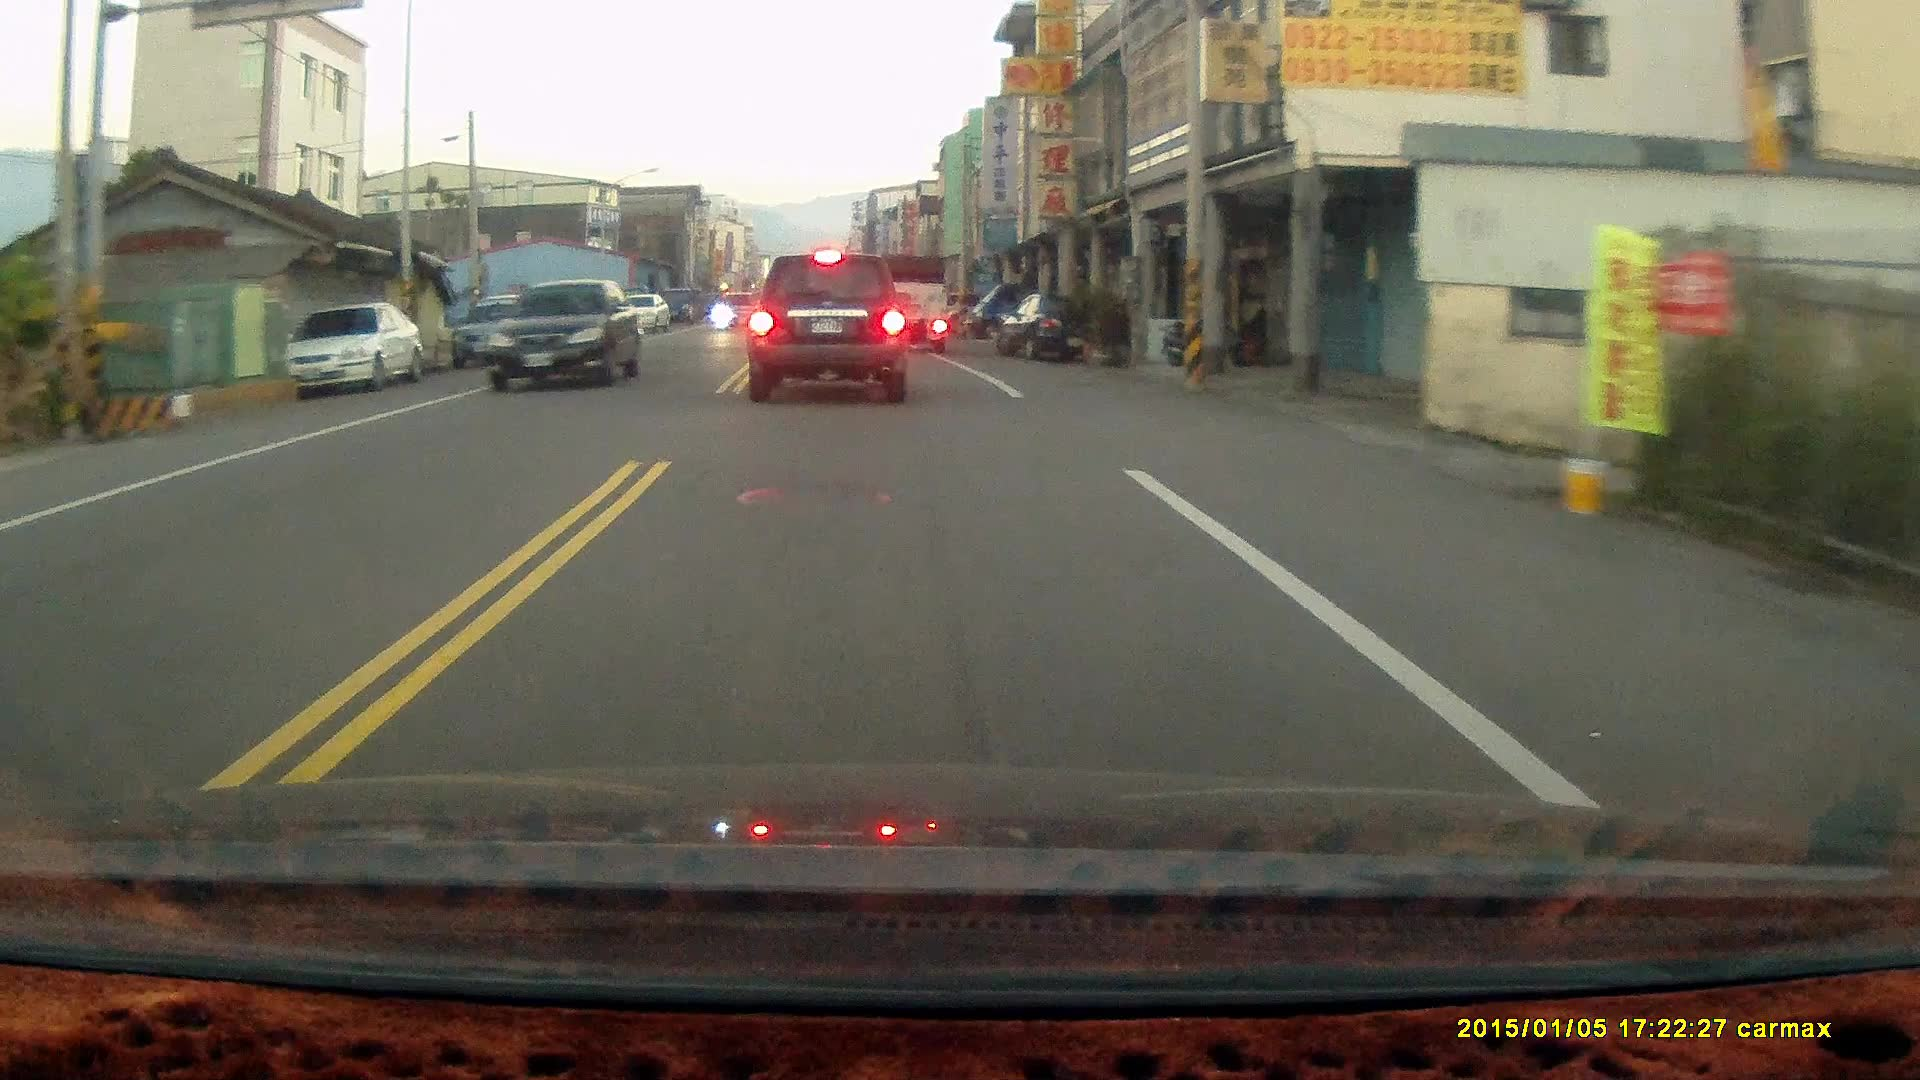vehicle: (749, 248, 915, 404), (487, 280, 644, 392), (282, 298, 426, 389), (1004, 291, 1117, 364), (458, 291, 559, 368), (874, 253, 949, 355), (615, 294, 673, 334)
